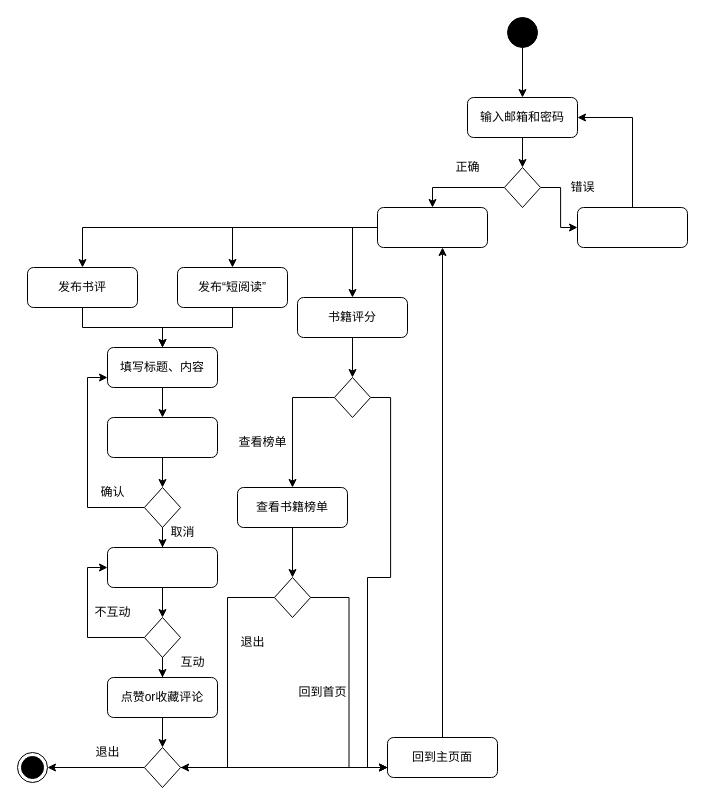
Image size: 705x805. Some labels were removed from this diagram. Each missing label, with the centre of its shape:
"提示错误，重新输入" belongs at pixel 632 227.
"查看其他内容" belongs at pixel 162 567.
"点击上传" belongs at pixel 162 437.
"选择主功能" belongs at pixel 432 227.
